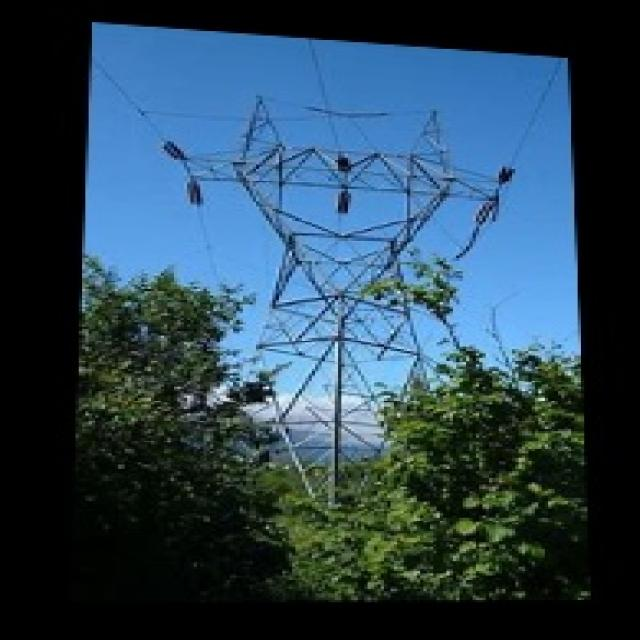utility poles: (338, 250, 558, 448), (162, 284, 320, 449)
